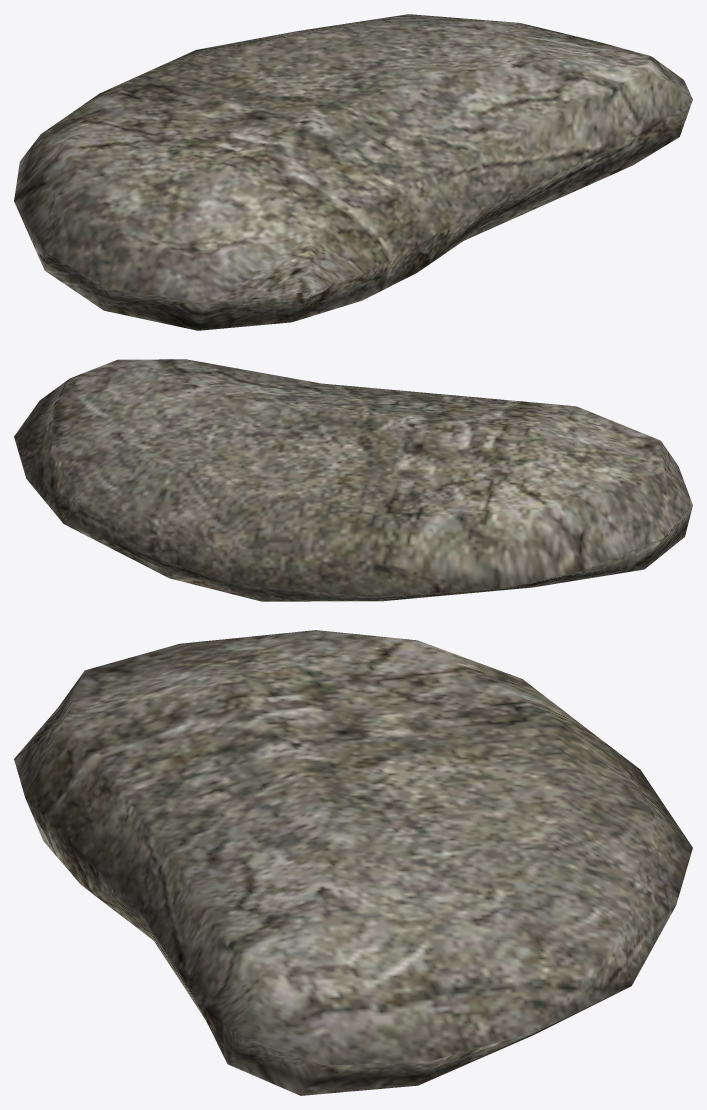
File: general_obj_stone14.glb
3 views of the same model, one above another, from view 1: azimuth 30°, elevation 25°; view 2: azimuth 150°, elevation 25°; view 3: azimuth 270°, elevation 25° (orthographic). The views are drawn at different scales.
Parts seen in each view (by area): view 1: Sphere01; view 2: Sphere01; view 3: Sphere01.
Boxes of the visible parts, x1,y1,x2,y2 form: Sphere01: [14, 14, 692, 330]; Sphere01: [14, 359, 692, 601]; Sphere01: [14, 630, 692, 1095].
Size of the model in its own units: 6.72 by 1.06 by 4.74.
Materials: 1 (1 with a texture image).
